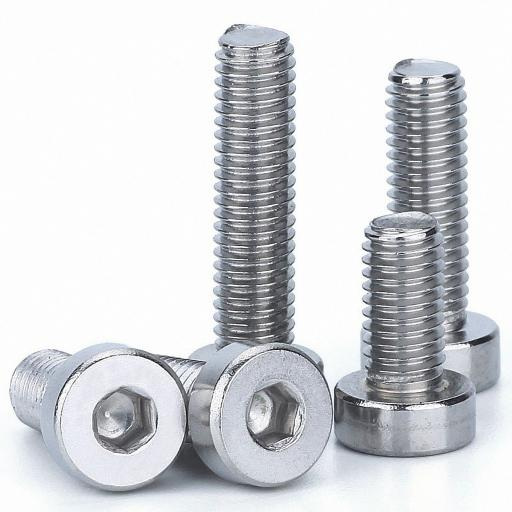Hex-Allen: (46, 339, 186, 494), (196, 338, 334, 488)
